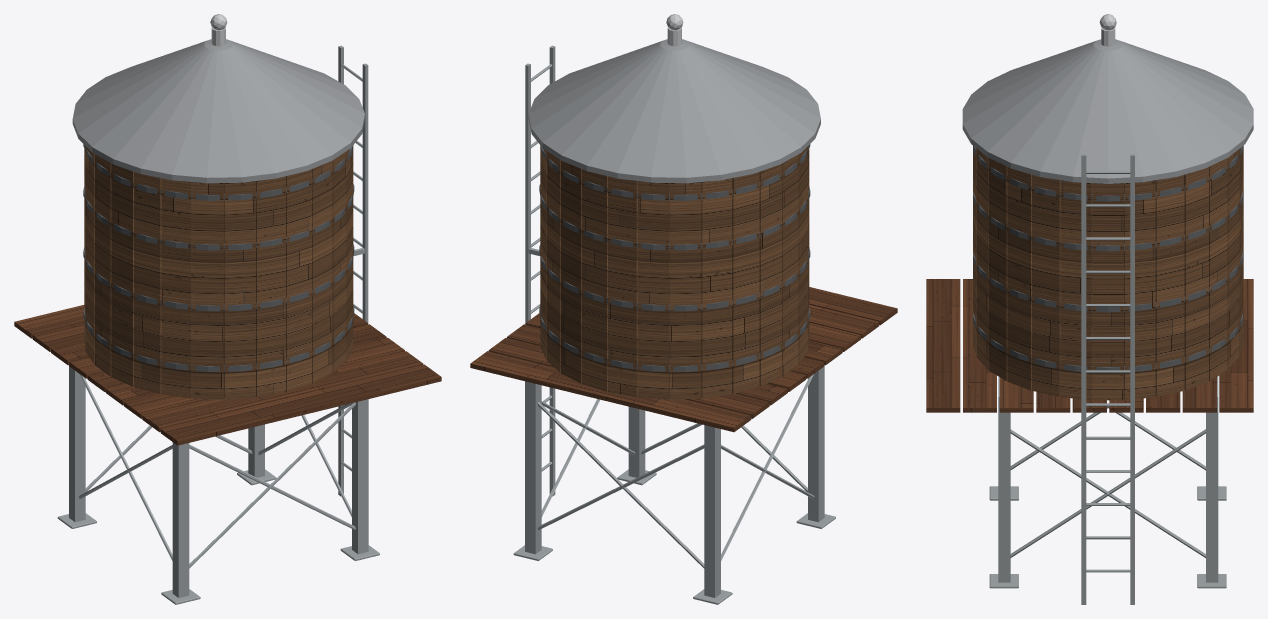
Rendered from water_tank.glb.
The picture shows the model from 3 angles, left to right: view 1: azimuth 30°, elevation 25°; view 2: azimuth 150°, elevation 25°; view 3: azimuth 270°, elevation 25°; orthographic projection.
Parts seen in each view (by area): view 1: water_tank_tank, water_tank_roofsheet, water_tank_steel, water_tank_wood, water_tank_iron; view 2: water_tank_tank, water_tank_roofsheet, water_tank_steel, water_tank_wood, water_tank_iron; view 3: water_tank_tank, water_tank_roofsheet, water_tank_steel, water_tank_wood, water_tank_iron, water_tank_zinc.
Boxes of the visible parts, bbox=[...] form: water_tank_tank: bbox=[84, 145, 353, 399]; water_tank_roofsheet: bbox=[72, 39, 364, 183]; water_tank_steel: bbox=[57, 45, 379, 604]; water_tank_wood: bbox=[14, 305, 441, 445]; water_tank_iron: bbox=[83, 144, 354, 371]; water_tank_tank: bbox=[540, 145, 809, 399]; water_tank_roofsheet: bbox=[528, 39, 820, 183]; water_tank_steel: bbox=[513, 45, 835, 604]; water_tank_wood: bbox=[470, 287, 897, 432]; water_tank_iron: bbox=[539, 144, 810, 371]; water_tank_tank: bbox=[973, 145, 1243, 400]; water_tank_roofsheet: bbox=[962, 39, 1253, 183]; water_tank_steel: bbox=[989, 154, 1226, 604]; water_tank_wood: bbox=[926, 279, 1253, 412]; water_tank_iron: bbox=[973, 146, 1242, 371]; water_tank_zinc: bbox=[1099, 14, 1116, 46].
Bounding box in the file's own units: 2.54 × 4.73 × 2.68.
Materials: 6 (2 with a texture image).
